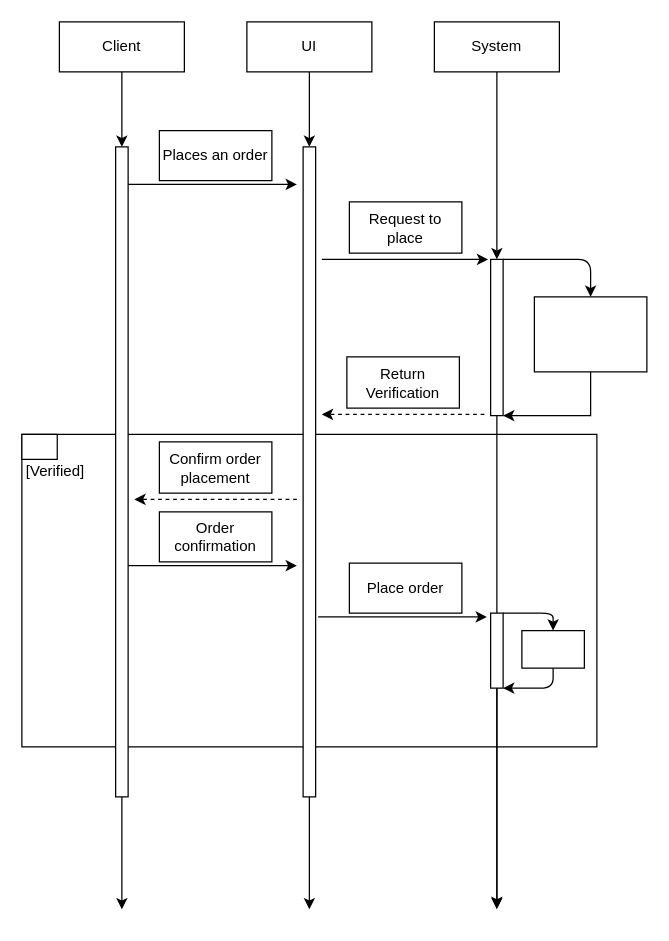
This 669x941 diagram has some shape labels left out. The shapes that lost their labels are listed below. From the top down, each one's box as (x1, y1, x2, y2) in pixels, then its label:
(533, 296, 647, 372): Check client balance and item stock
(21, 433, 57, 459): opt
(521, 629, 584, 668): Save order
